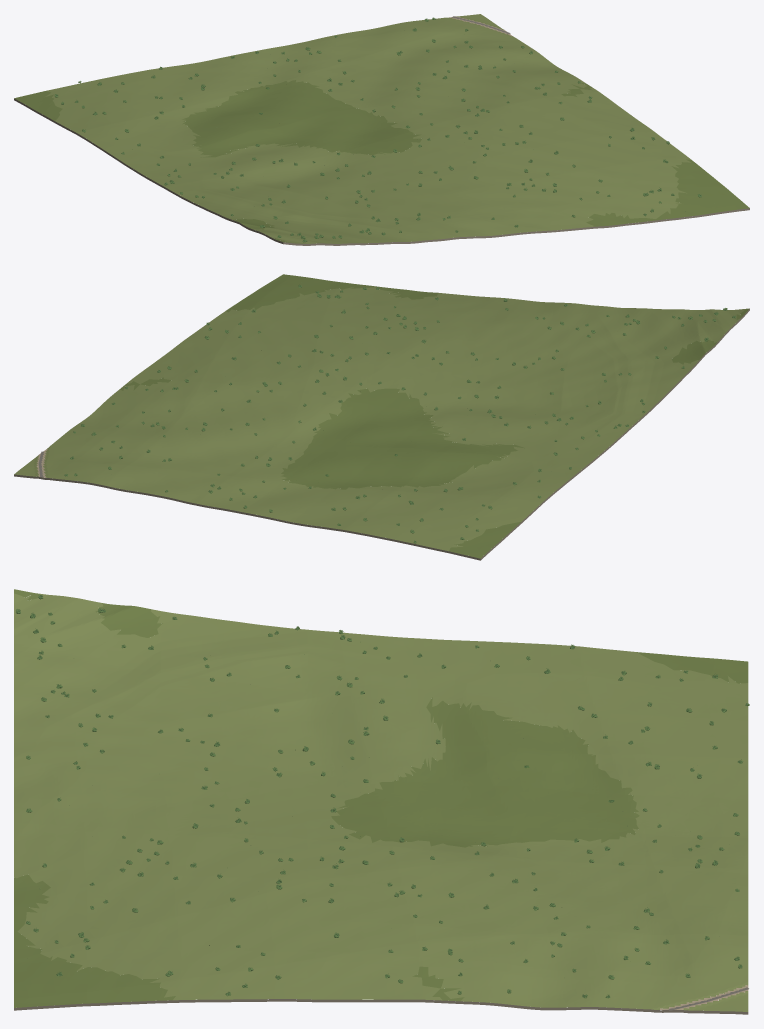
Rendered from parca_+10_-4-yakin.glb.
3 views of the same model, one above another, from view 1: azimuth 30°, elevation 25°; view 2: azimuth 150°, elevation 25°; view 3: azimuth 270°, elevation 25° (orthographic). The views are drawn at different scales.
Parts seen in each view (by area): view 1: parca_+10_-4_arazi, parca_+10_-4_bitkiler; view 2: parca_+10_-4_arazi, parca_+10_-4_bitkiler; view 3: parca_+10_-4_arazi, parca_+10_-4_bitkiler.
Boxes of the visible parts, left/top/right/bottom form: parca_+10_-4_arazi: left=14, top=14, right=749, bottom=245; parca_+10_-4_bitkiler: left=54, top=17, right=701, bottom=242; parca_+10_-4_arazi: left=14, top=274, right=749, bottom=560; parca_+10_-4_bitkiler: left=64, top=282, right=735, bottom=543; parca_+10_-4_arazi: left=14, top=589, right=748, bottom=1014; parca_+10_-4_bitkiler: left=15, top=594, right=749, bottom=998.
Size of the model in its own units: 1003 by 173 by 1002.
